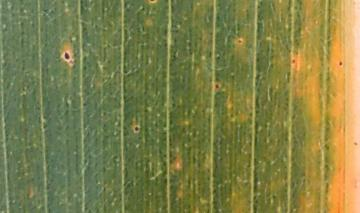tarspot: (64, 52, 71, 60), (134, 126, 140, 132), (291, 58, 297, 64), (215, 83, 220, 89), (338, 61, 343, 66), (238, 38, 242, 44), (149, 1, 156, 4)
